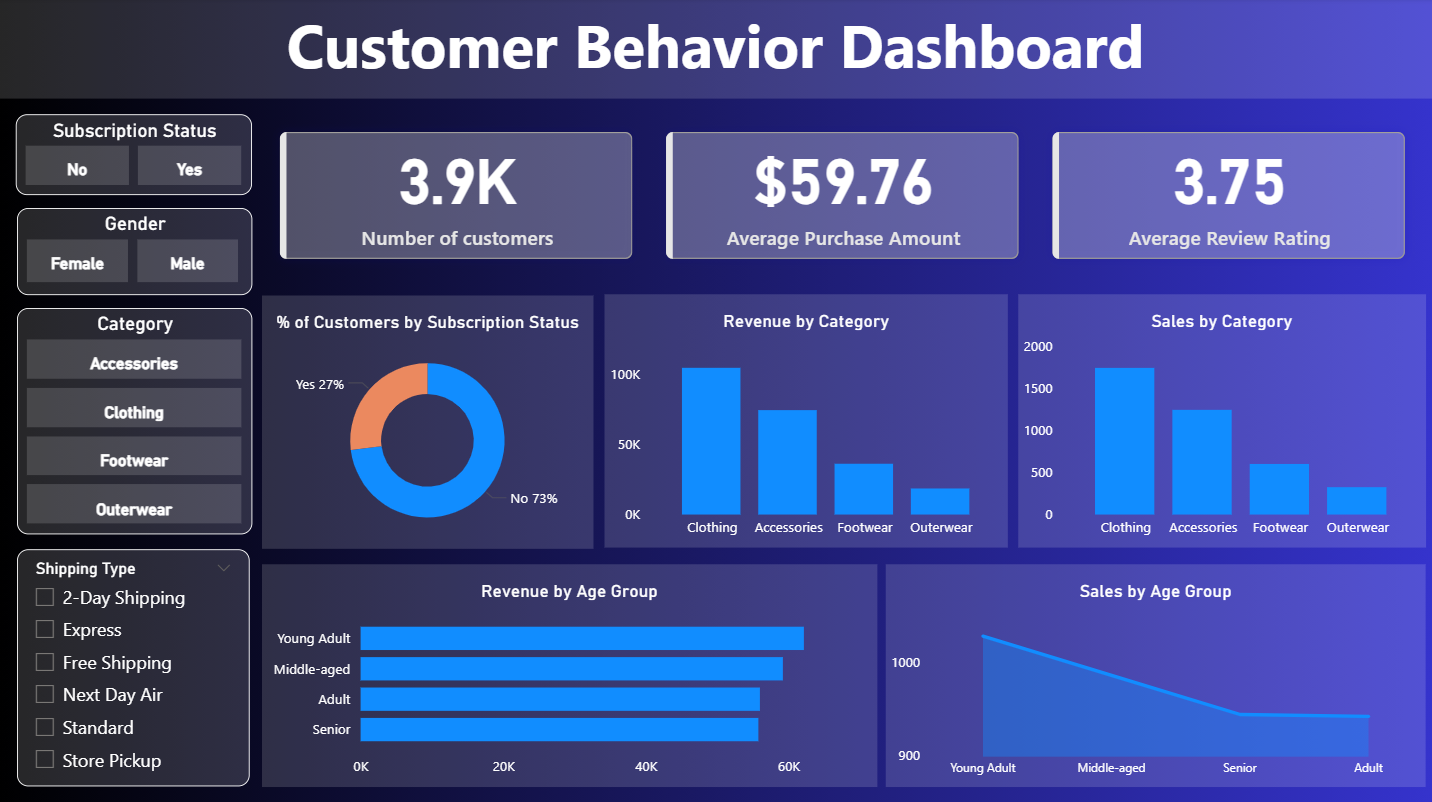

The dashboard page shown, as its layout file describes it:
{"tool":"powerbi","page":{"name":"Page 1","canvas":[1280,720],"ordinal":0},"visuals":[{"type":"cardVisual","fields":{"Data":["public customer.Number of customers","public customer.Average Purchase Amount","public customer.Average Review Rating"]},"box":[236,103.5,1036.4,145.8],"z":0},{"type":"textbox","box":[0,0,1279.8,89.6],"z":1000},{"type":"donutChart","title":"% of Customers by Subscription Status","fields":{"Category":["public customer.subscription_status"],"Y":["public customer.Count of customer id"]},"box":[236,264.9,295,226],"z":2000},{"type":"clusteredColumnChart","title":"Revenue by Category","fields":{"Category":["public customer.category"],"Y":["Sum(public customer.purchase_amount)"]},"box":[541,263.8,359.6,226],"z":3000},{"type":"clusteredColumnChart","title":"Sales by Category","fields":{"Category":["public customer.category"],"Y":["public customer.Count of customer id"]},"box":[909.5,263.8,362.9,226],"z":4000},{"type":"advancedSlicerVisual","fields":{"Values":["public customer.subscription_status"]},"box":[16.7,103.5,210.4,72.4],"z":6000},{"type":"advancedSlicerVisual","fields":{"Values":["public customer.gender"]},"box":[17.8,187,209.3,77.9],"z":7000},{"type":"slicer","fields":{"Values":["public customer.shipping_type"]},"box":[17.8,490.9,207.1,211.5],"z":8000},{"type":"advancedSlicerVisual","fields":{"Values":["public customer.category"]},"box":[17.8,276.1,209.3,201.5],"z":9000},{"type":"clusteredBarChart","title":"Revenue by Age Group","fields":{"Y":["Sum(public customer.purchase_amount)"],"Category":["public customer.age_group"]},"box":[236,504.3,547.7,198.1],"z":9002},{"type":"areaChart","title":"Sales by Age Group","fields":{"Category":["public customer.age_group"],"Y":["public customer.Count of customer id"]},"box":[791.5,504.3,480.9,198.1],"z":9003}]}

Visuals, with their boxes in screenshot pixels (x1, y1, x2, y2), scaled from the page's 1280x720 canvas onto the 1432x802 screenshot:
cardVisual - public customer.Number of customers x public customer.Average Purchase Amount: 264,115,1423,278
textbox: 0,0,1431,100
"% of Customers by Subscription Status" donutChart: 264,295,594,547
"Revenue by Category" clusteredColumnChart: 605,294,1008,546
"Sales by Category" clusteredColumnChart: 1018,294,1423,546
advancedSlicerVisual - public customer.subscription_status: 19,115,254,196
advancedSlicerVisual - public customer.gender: 20,208,254,295
slicer - public customer.shipping_type: 20,547,252,782
advancedSlicerVisual - public customer.category: 20,308,254,532
"Revenue by Age Group" clusteredBarChart: 264,562,877,782
"Sales by Age Group" areaChart: 885,562,1423,782
